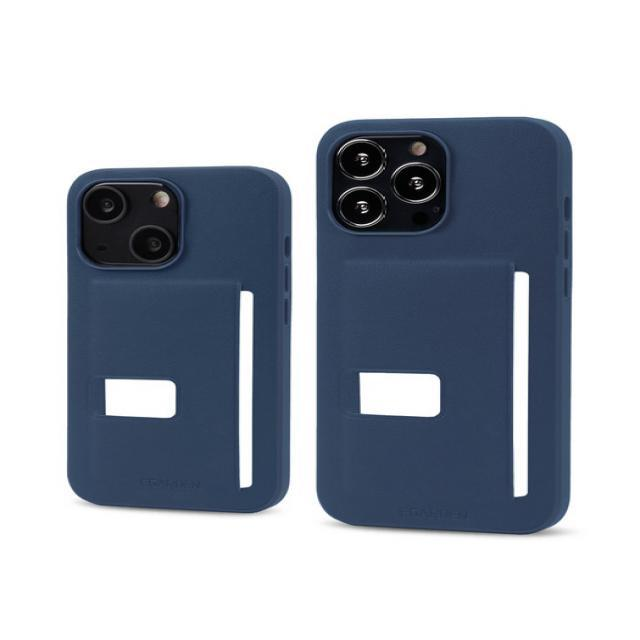phone: (314, 116, 570, 534), (70, 165, 294, 514)
